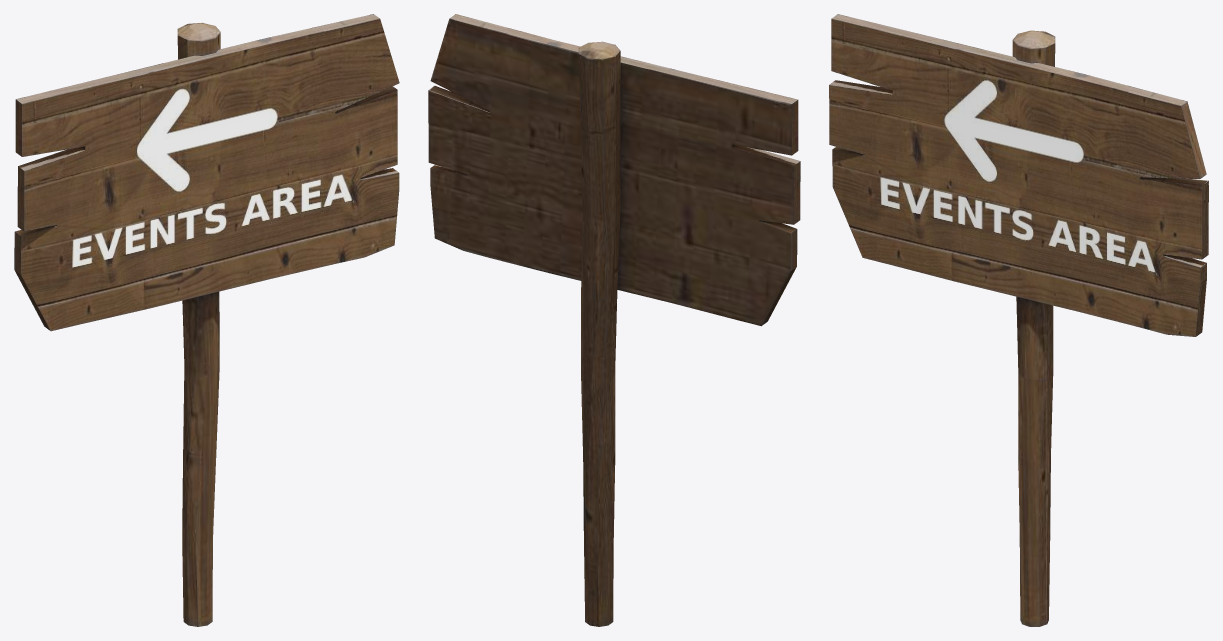
File: events_area_sign.glb
3 renders of one model, left to right at view 1: azimuth 30°, elevation 25°; view 2: azimuth 150°, elevation 25°; view 3: azimuth 330°, elevation 25°, orthographic. The views are drawn at different scales.
Parts seen in each view (by area): view 1: Signpost_Tall_Baked_dark; view 2: Signpost_Tall_Baked_dark; view 3: Signpost_Tall_Baked_dark.
Boxes of the visible parts, bbox=[...] form: Signpost_Tall_Baked_dark: bbox=[14, 14, 399, 626]; Signpost_Tall_Baked_dark: bbox=[428, 14, 800, 626]; Signpost_Tall_Baked_dark: bbox=[829, 14, 1208, 626].
Bounding box in the file's own units: 2 × 3.02 × 0.2602.
1 material, 1 textured.
